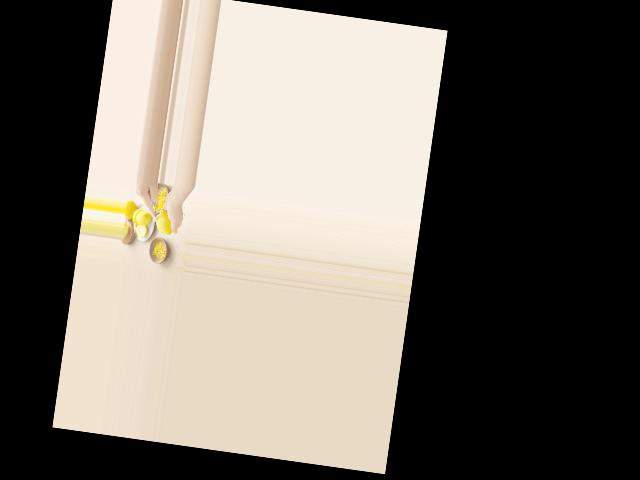lemon: (153, 208, 178, 235)
